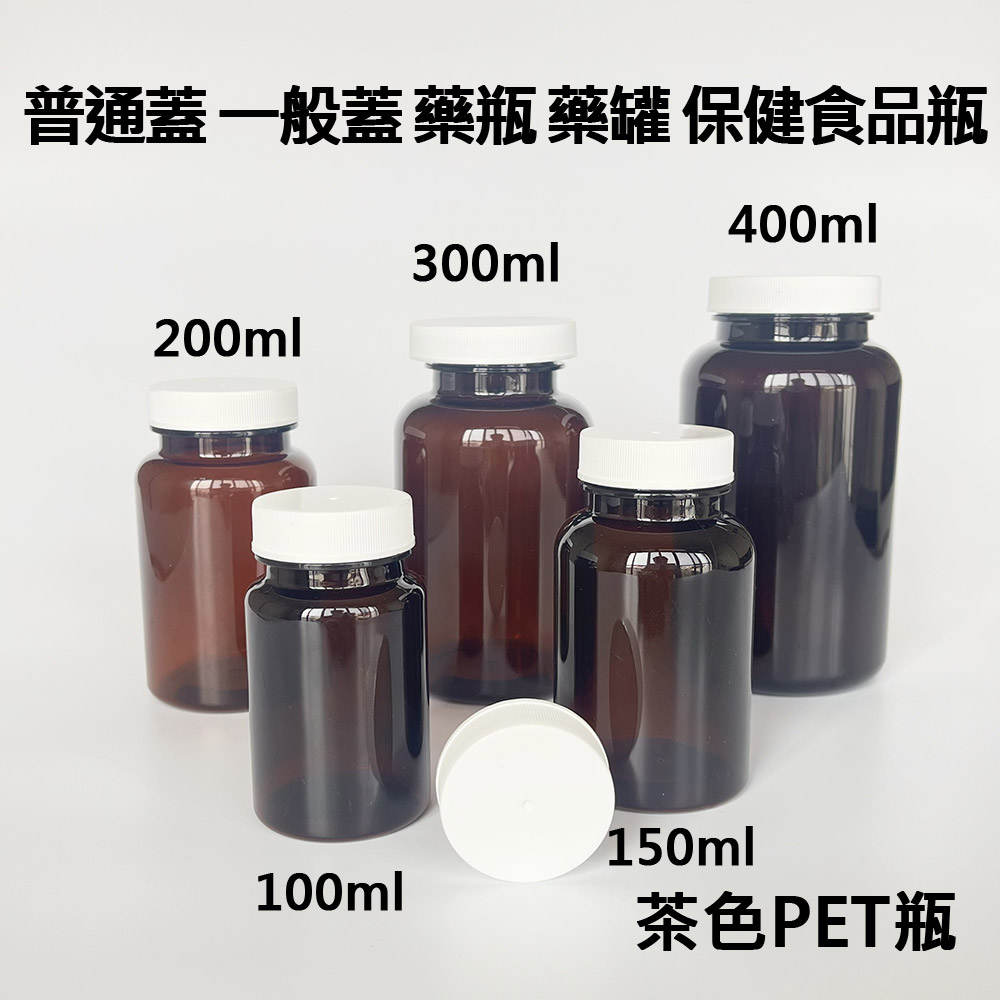medicinejar: (674, 255, 901, 703), (554, 412, 774, 822), (407, 315, 597, 705), (246, 488, 451, 842), (129, 375, 316, 713)
